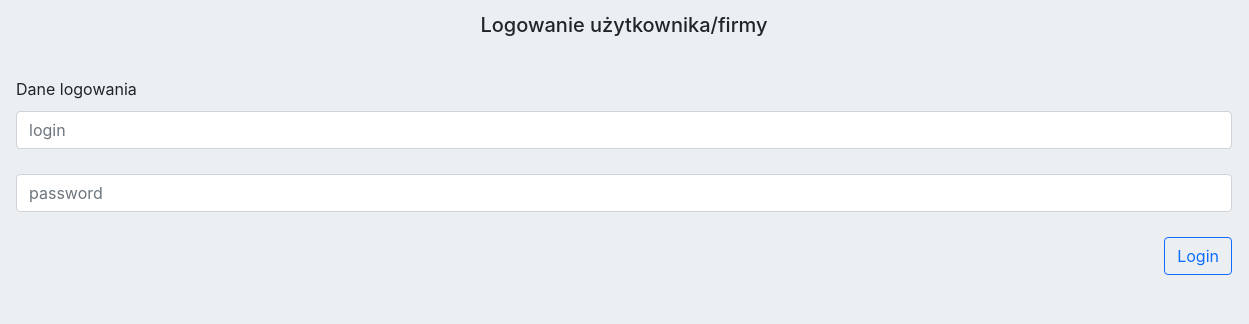
LogIn component tests › should handle server error
Step 1. Type "bartek" into the field with placeholder "login" → (624, 130), box [16,111,1232,149]
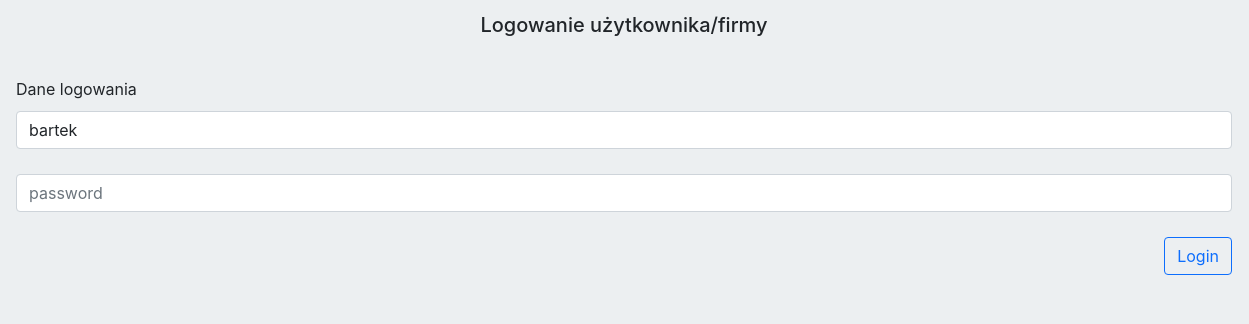
Step 2. Type "bartek123" into the password field with placeholder "password" → (624, 193), box [16,174,1232,212]
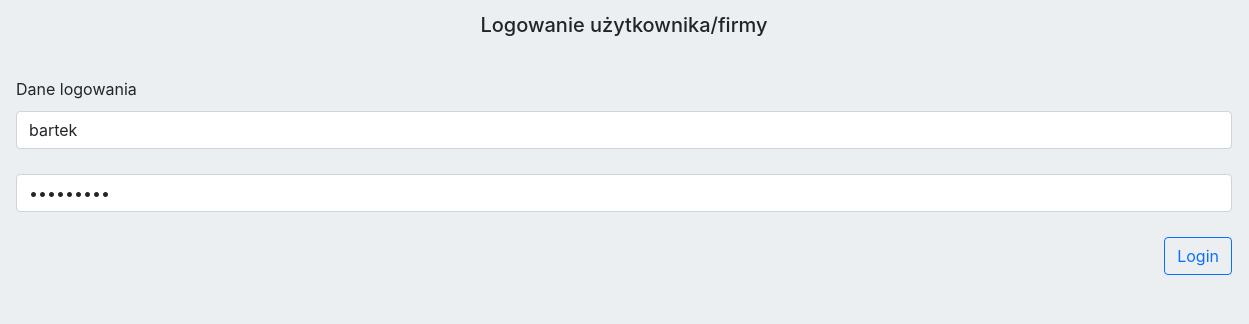
Step 3. Click the button "Login" → (1198, 256), box [1177,244,1219,268]
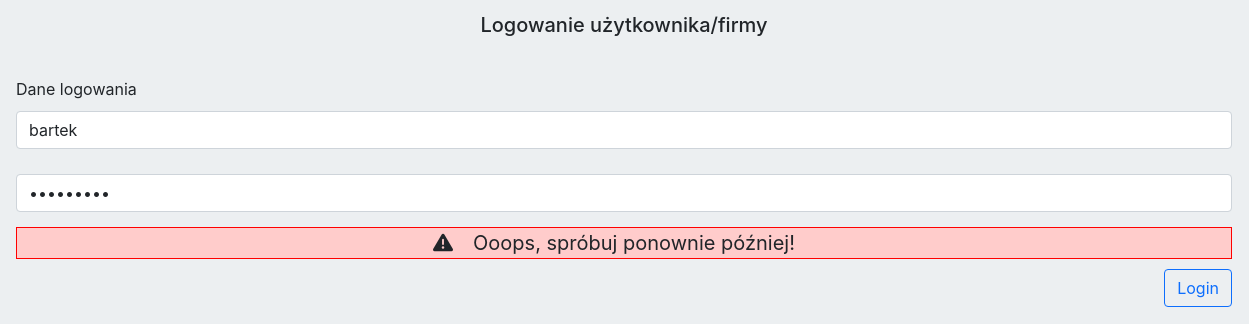
Result: the text "Ooops, spróbuj ponownie później!" is shown at [473,228,795,258]
